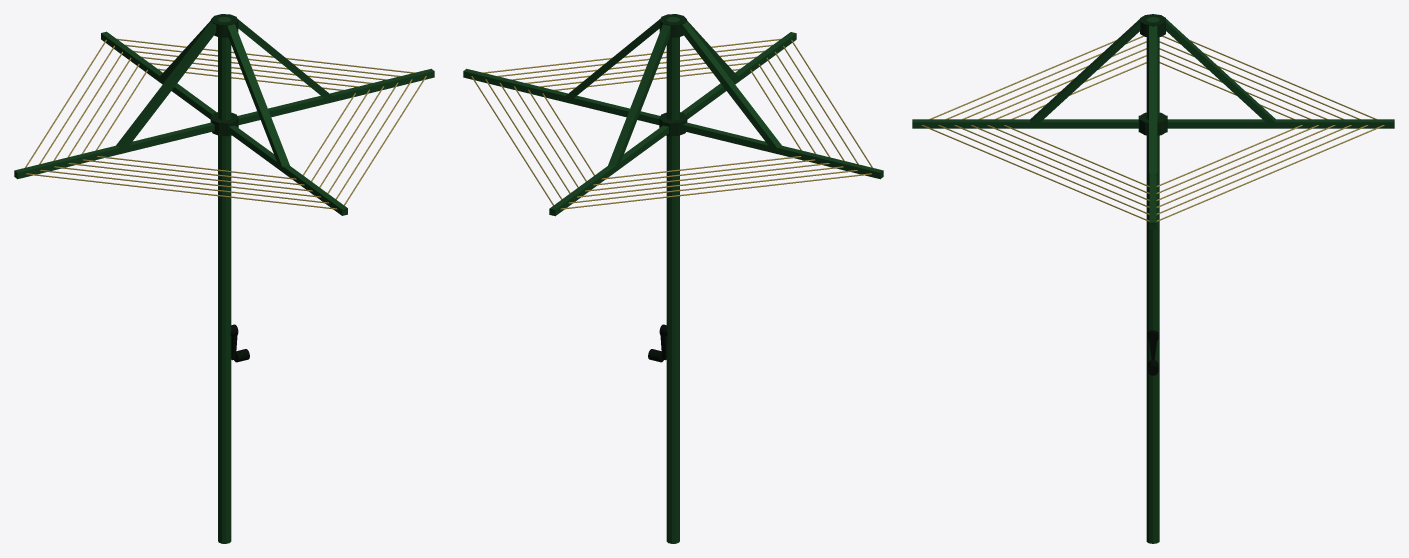
File: Clothesline_001_Backyard_001_Open_PrimBlock.fbx
The picture shows the model from 3 angles, left to right: view 1: azimuth 30°, elevation 25°; view 2: azimuth 150°, elevation 25°; view 3: azimuth 270°, elevation 25°; orthographic projection.
Parts seen in each view (by area): view 1: Clothesline_001_Backyard_001_Open; view 2: Clothesline_001_Backyard_001_Open; view 3: Clothesline_001_Backyard_001_Open.
Boxes of the visible parts, <box> form: Clothesline_001_Backyard_001_Open: <box>14,14,434,543</box>; Clothesline_001_Backyard_001_Open: <box>463,14,883,543</box>; Clothesline_001_Backyard_001_Open: <box>912,14,1394,543</box>.
Bounding box in the file's own units: 212 × 253 × 212.
